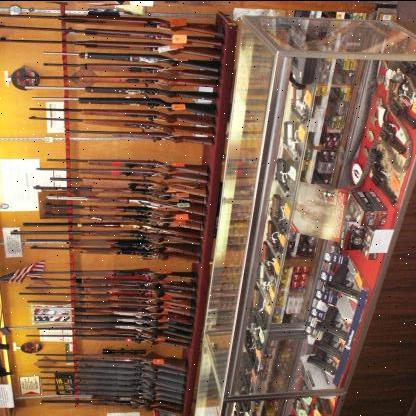rifle: (72, 92, 225, 115), (30, 242, 212, 259)
